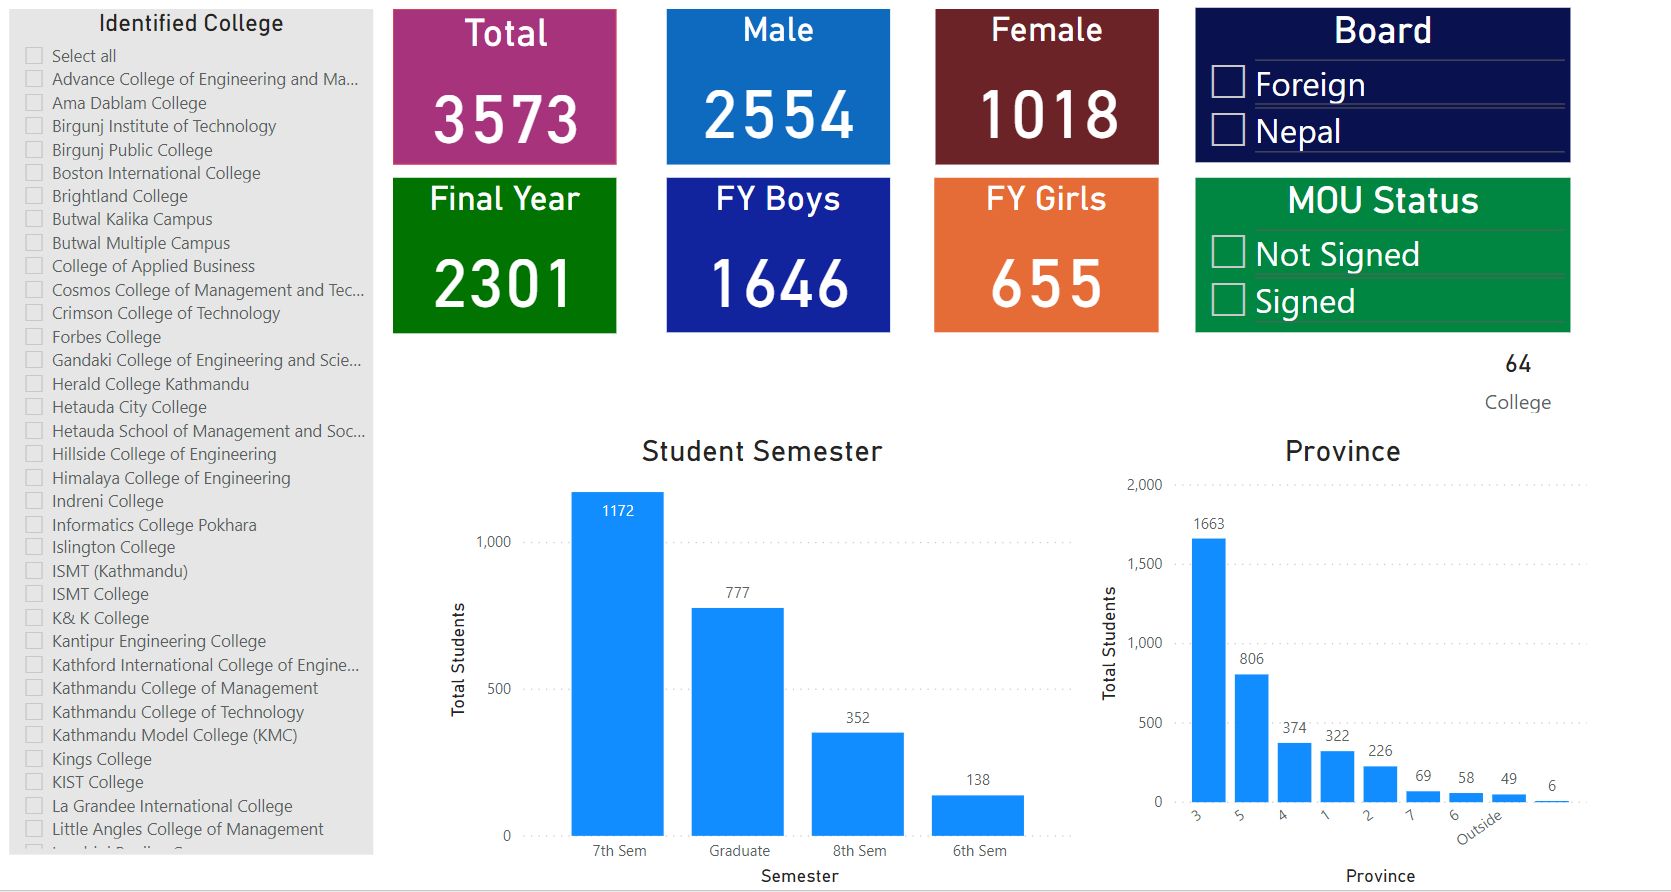

What the dashboard file says about the page in this screenshot:
{"tool":"powerbi","page":{"name":"MOU College","canvas":[1280,720],"ordinal":1},"visuals":[{"type":"slicer","title":"Identified College","fields":{"Values":["identifiedCollege (2).profile_field_collegename"]},"box":[9.3,11.6,292.1,678.4],"z":0},{"type":"card","title":"Total","fields":{"Values":["CountNonNull(user_latest.id)"]},"box":[316.5,11.6,179.2,124.5],"z":1000},{"type":"card","title":"Male","fields":{"Values":["CountNonNull(user_latest.profile_field_gender)"]},"box":[536.4,11.6,179.2,124.5],"z":2000},{"type":"card","title":"Female","fields":{"Values":["CountNonNull(user_latest.profile_field_gender)"]},"box":[751.7,11.6,179.2,124.5],"z":3000},{"type":"columnChart","title":"Student Semester","fields":{"Category":["user_latest.profile_field_Semester1"],"Y":["CountNonNull(user_latest.profile_field_Semester)1"]},"box":[356.4,351.5,513.9,368.5],"z":4000},{"type":"columnChart","title":"Province","fields":{"Category":["user_latest.profile_field_Province"],"Y":["CountNonNull(user_latest.profile_field_Province)"]},"box":[879,351.6,401,368.1],"z":5000},{"type":"slicer","title":"MOU Status","fields":{"Values":["identifiedCollege (2).status"]},"box":[960.4,147.6,300.7,124.1],"z":6000},{"type":"card","title":"Final Year","fields":{"Values":["CountNonNull(user_latest.id)"]},"box":[316.5,147.8,179.2,124.5],"z":7000},{"type":"card","title":"FY Boys","fields":{"Values":["CountNonNull(user_latest.profile_field_gender)"]},"box":[536.6,147.6,178.9,124.1],"z":8000},{"type":"card","title":"FY Girls","fields":{"Values":["CountNonNull(user_latest.profile_field_gender)"]},"box":[751.3,147.6,180,124.1],"z":9000},{"type":"slicer","title":"Board","fields":{"Values":["identifiedCollege (2).board"]},"box":[960.4,11.2,300.7,124.1],"z":10000},{"type":"card","fields":{"Values":["CountNonNull(identifiedCollege.profile_field_collegename)"]},"box":[1178.2,272.7,82.4,67.9],"z":11000}]}

Visuals, with their boxes on the page's 1280x720 design canvas (x1, y1, x2, y2). These are canvas units, not pixel positions in the 1671x892 screenshot, which may show the page scaled, cropped or inside an application window:
"Identified College" slicer: [left=9, top=12, right=301, bottom=690]
"Total" card: [left=316, top=12, right=496, bottom=136]
"Male" card: [left=536, top=12, right=716, bottom=136]
"Female" card: [left=752, top=12, right=931, bottom=136]
"Student Semester" columnChart: [left=356, top=352, right=870, bottom=720]
"Province" columnChart: [left=879, top=352, right=1280, bottom=720]
"MOU Status" slicer: [left=960, top=148, right=1261, bottom=272]
"Final Year" card: [left=316, top=148, right=496, bottom=272]
"FY Boys" card: [left=537, top=148, right=716, bottom=272]
"FY Girls" card: [left=751, top=148, right=931, bottom=272]
"Board" slicer: [left=960, top=11, right=1261, bottom=135]
card - CountNonNull(identifiedCollege.profile_field_collegename): [left=1178, top=273, right=1261, bottom=341]
